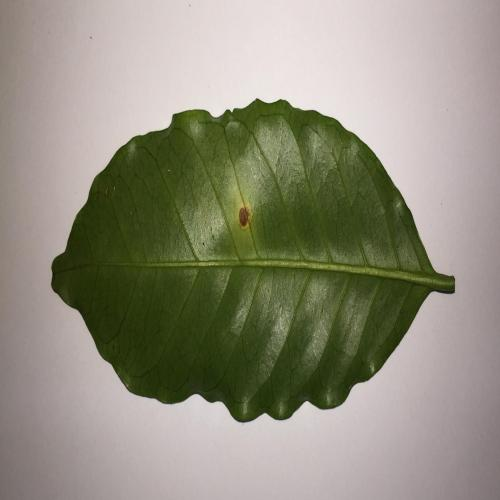cercospora: (234, 198, 252, 230)
